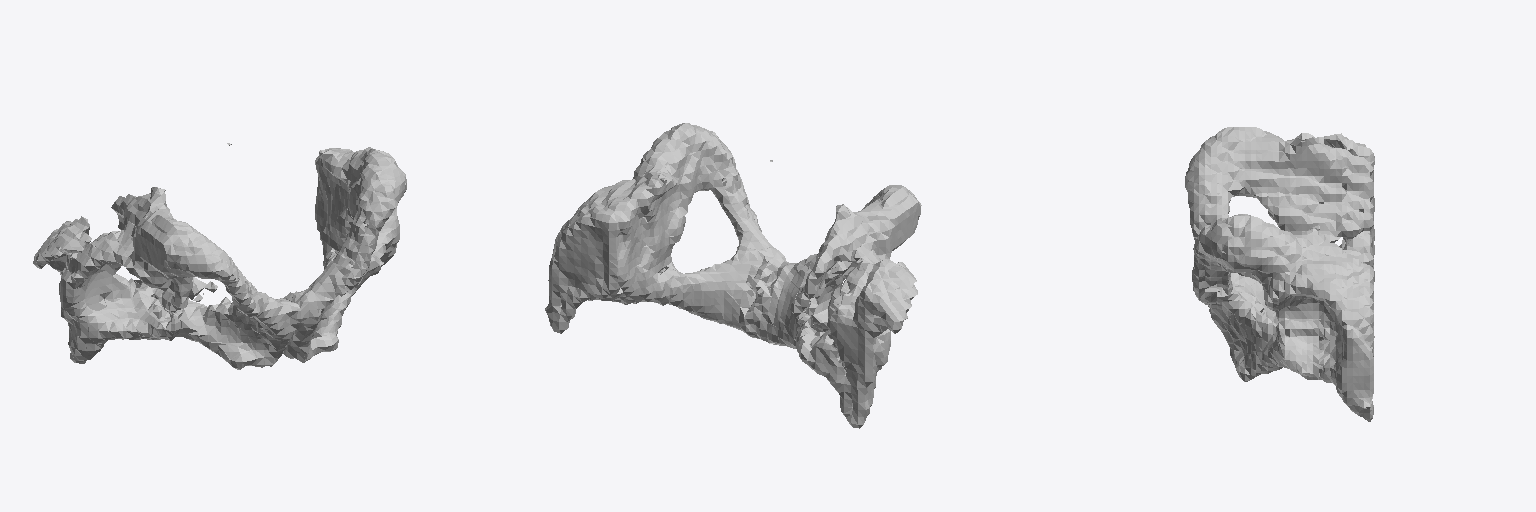
Rendered from pelvheadsC.obj.
3 renders of one model, left to right at view 1: azimuth 30°, elevation 25°; view 2: azimuth 150°, elevation 25°; view 3: azimuth 270°, elevation 25°, orthographic.
Bounding box in the file's own units: 219 × 125 × 100.